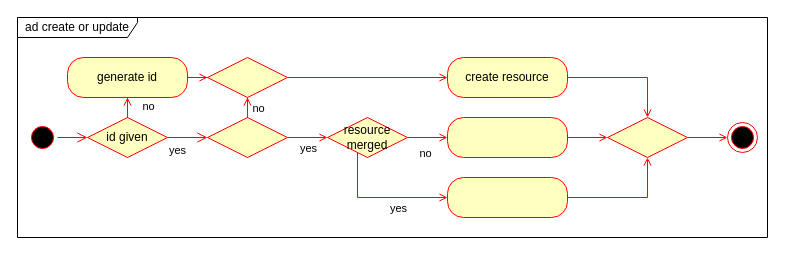
Image size: 785x255. Some labels were removed from this diagram. Each missing label, with the centre of its shape:
"resource found" belongs at point 247,137.
"throw error" belongs at point 507,197.
"update resource" belongs at point 507,137.
